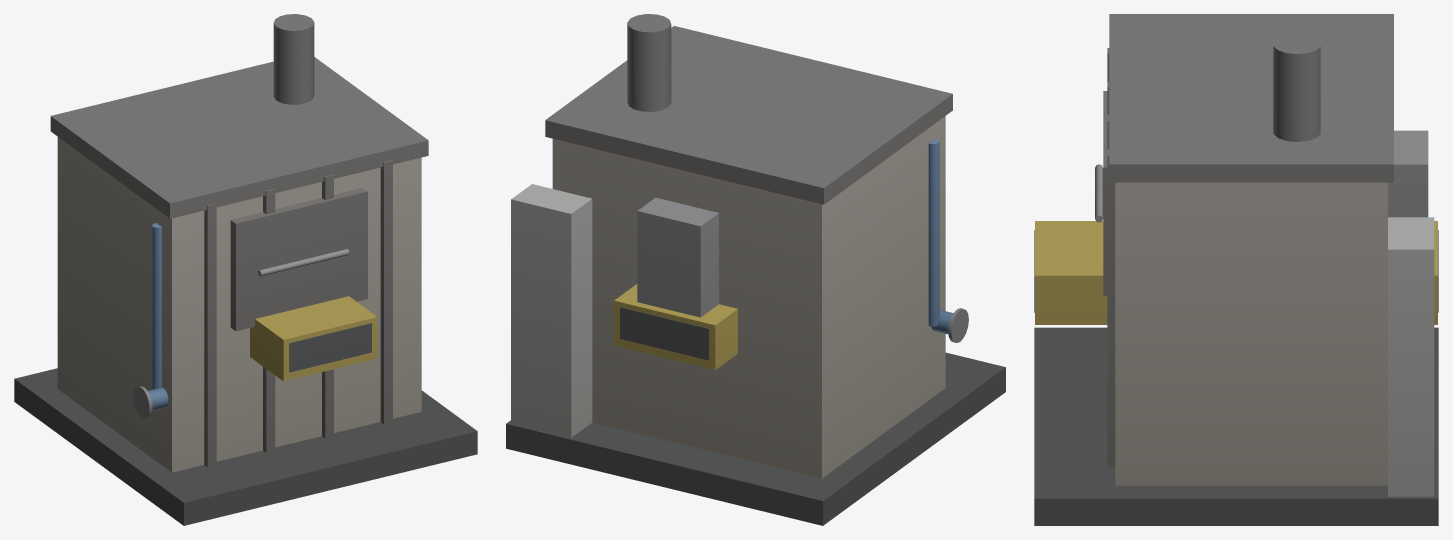
Rendered from mcKiln_steel.glb.
3 renders of one model, left to right at view 1: azimuth 30°, elevation 25°; view 2: azimuth 150°, elevation 25°; view 3: azimuth 270°, elevation 25°, orthographic. The views are drawn at different scales.
Parts seen in each view (by area): view 1: mcKiln_steel; view 2: mcKiln_steel; view 3: mcKiln_steel.
Part boxes in pixels (x1=…): mcKiln_steel: x1=14, y1=14, x2=477, y2=525; mcKiln_steel: x1=506, y1=14, x2=1005, y2=525; mcKiln_steel: x1=1034, y1=14, x2=1438, y2=525.
Bounding box in the file's own units: 2 × 2.4 × 2.
